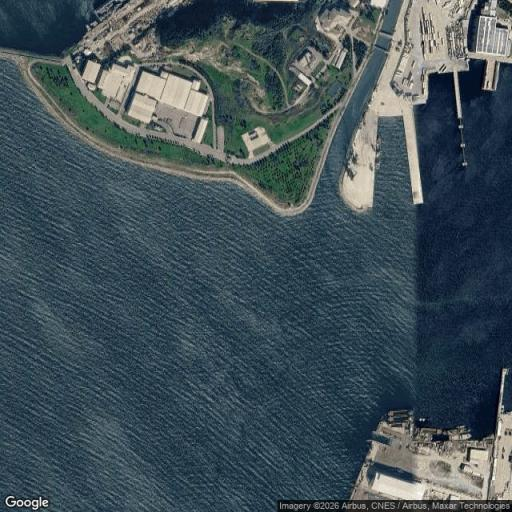ship: (448, 433, 472, 441), (420, 427, 442, 435), (448, 427, 472, 434), (386, 410, 413, 416), (388, 416, 413, 422)
